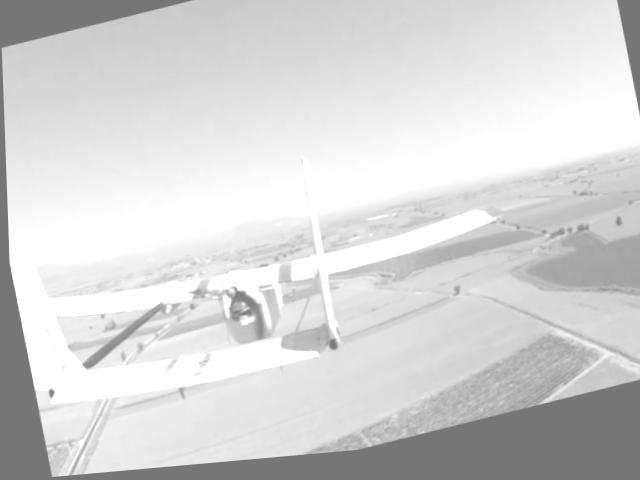hedef: (4, 112, 525, 438)
